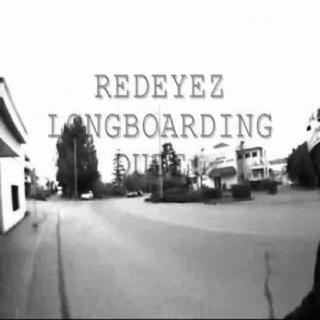other: (26, 123, 52, 175)
